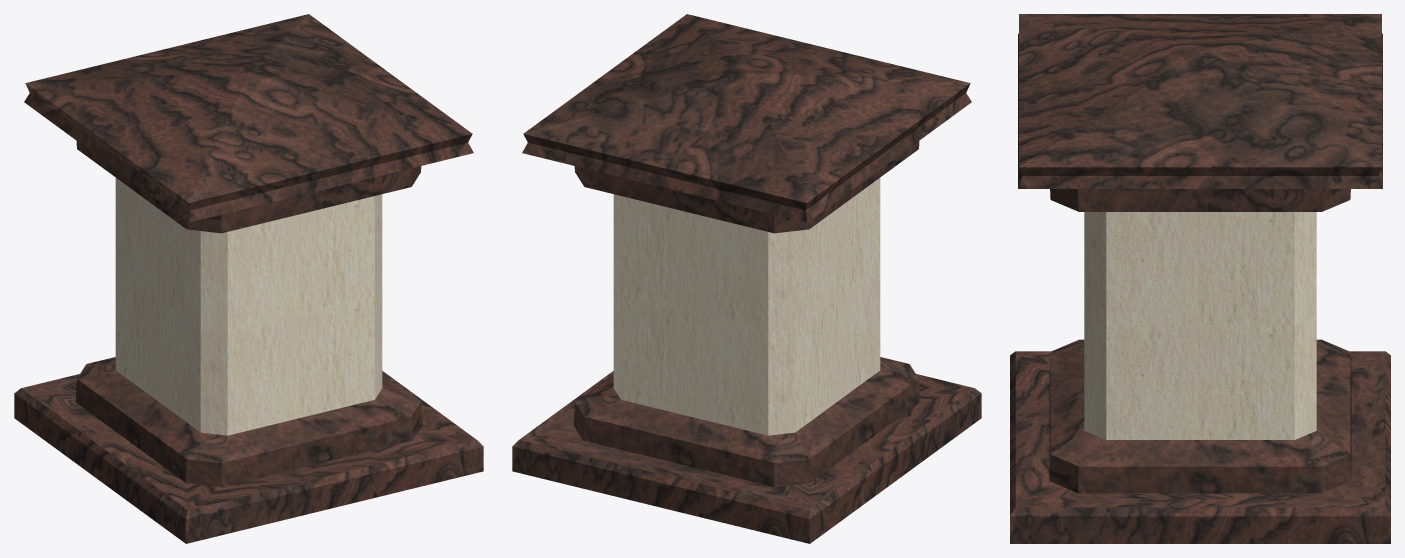
Rendered from Handheld Lantern.glb.
3 views of the same model, side by side, from view 1: azimuth 30°, elevation 25°; view 2: azimuth 150°, elevation 25°; view 3: azimuth 270°, elevation 25° (orthographic). The views are drawn at different scales.
Visible parts, largest first — view 1: Lantern; view 2: Lantern; view 3: Lantern.
Boxes of the visible parts, bbox=[...] form: Lantern: bbox=[14, 14, 483, 543]; Lantern: bbox=[512, 14, 981, 543]; Lantern: bbox=[1010, 14, 1390, 543].
Bounding box in the file's own units: 0.2374 × 0.2834 × 0.2374.
2 materials, 2 textured.
